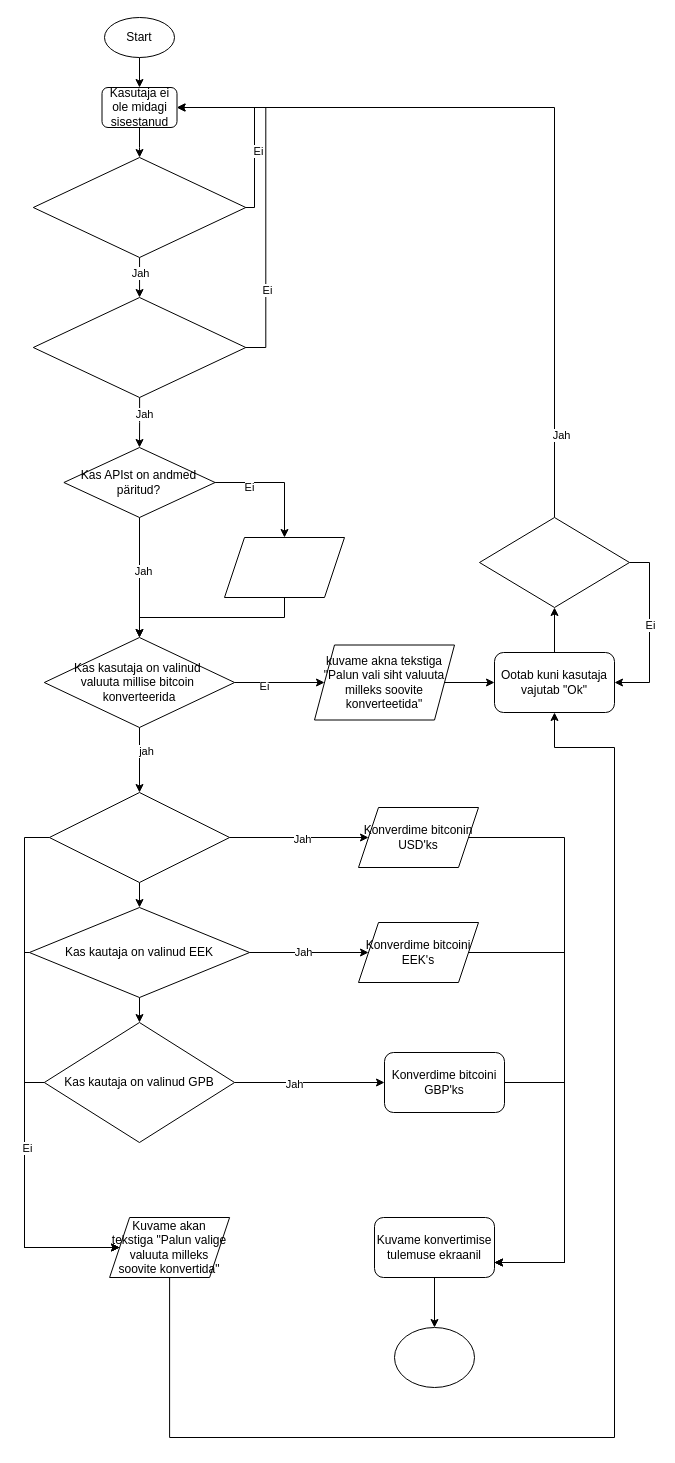
Image size: 675x1463. Some labels were removed from this diagram. The shapes that lost their labels are listed below. From the top down, each one's centre as x and y in pixels, then its label:
the point at 139,207: Kas Kasutaja on sisestanud Bitcoini Arvu?
the point at 139,347: Kas kasutaja on vajutanud konverteerimise nuppu?
the point at 284,567: Tee päring API'le bitcoini kursi saamiseks
the point at 554,562: Kas kasutaja on "Ok" vajutanud?
the point at 139,837: Kas kautaja on valinud USD
the point at 434,1357: Lõpp?
